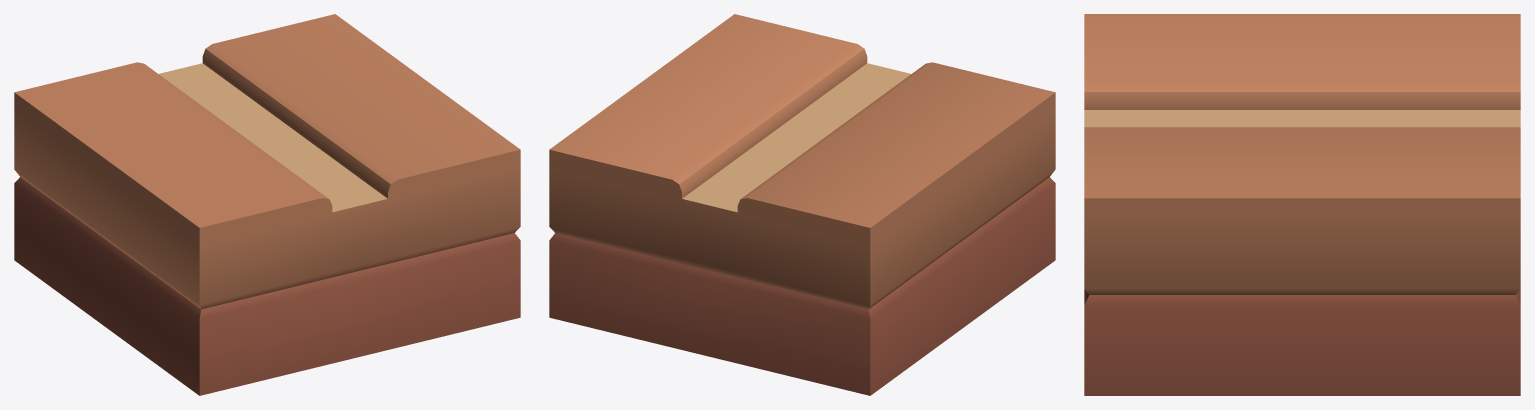
File: square_rock_roadB_detail.glb
3 renders of one model, left to right at view 1: azimuth 30°, elevation 25°; view 2: azimuth 150°, elevation 25°; view 3: azimuth 270°, elevation 25°, orthographic. The views are drawn at different scales.
Parts seen in each view (by area): view 1: square_rock_roadB_detail; view 2: square_rock_roadB_detail; view 3: square_rock_roadB_detail.
Boxes of the visible parts, left/top/right/bottom form: square_rock_roadB_detail: left=14, top=14, right=520, bottom=395; square_rock_roadB_detail: left=549, top=14, right=1055, bottom=395; square_rock_roadB_detail: left=1084, top=14, right=1520, bottom=395.
Size of the model in its own units: 2 by 1 by 2.
